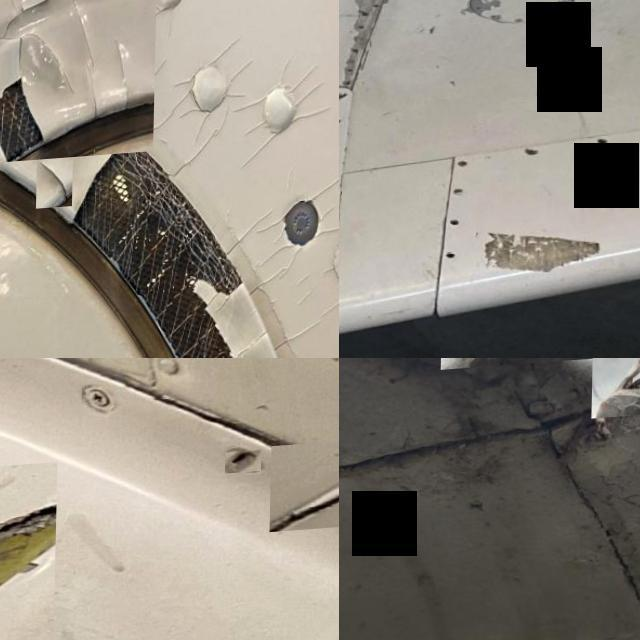Crack: (0, 464, 58, 640), (271, 442, 339, 538), (592, 358, 640, 423), (38, 159, 73, 210)
Missing_Fastener: (226, 456, 263, 479), (446, 254, 461, 268), (450, 222, 468, 232), (339, 95, 352, 104), (339, 117, 346, 127)
